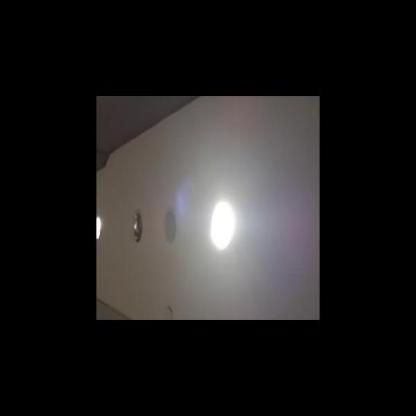light_off: (126, 202, 148, 251)
